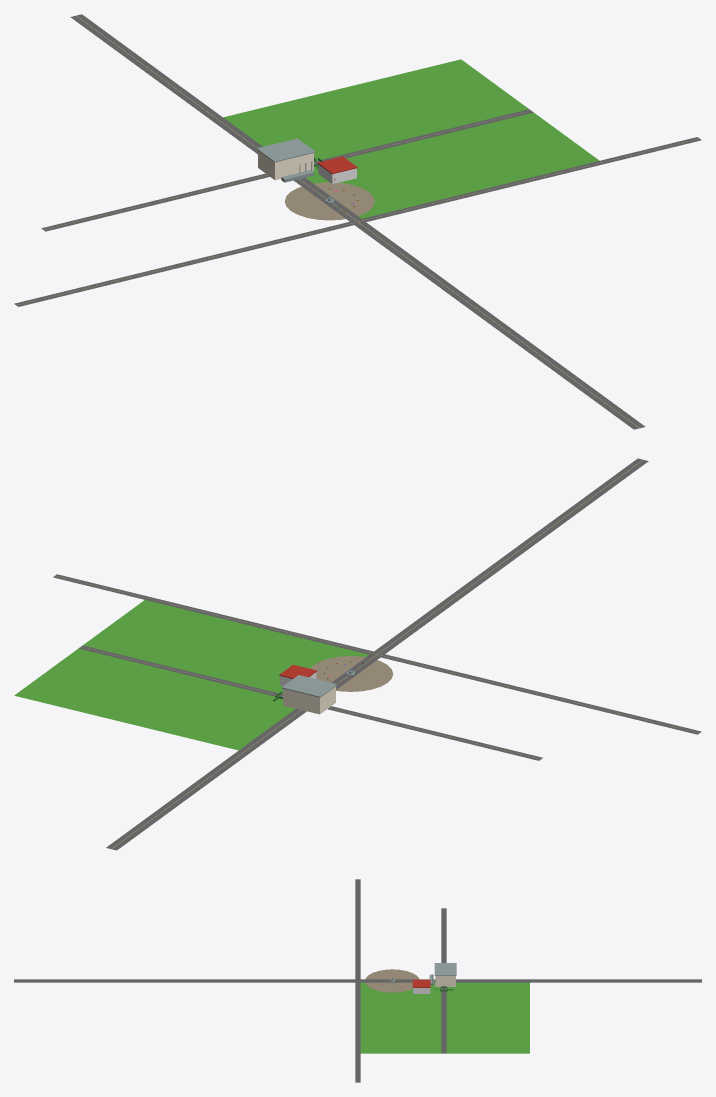
Rendered from sector_r1_c2.glb.
The picture shows the model from 3 angles, top to bottom: view 1: azimuth 30°, elevation 25°; view 2: azimuth 150°, elevation 25°; view 3: azimuth 270°, elevation 25°; orthographic projection. The views are drawn at different scales.
Visible parts, largest first — view 1: GROUND_r1_c2, ROAD_MainBlvd_0, ROAD_District_EW_2, GROUND_Plaza_Cobble, ROAD_District_EW_4, BUILDING_CityHall_Main, BUILDING_CityHall_Roof; view 2: GROUND_r1_c2, ROAD_MainBlvd_0, ROAD_District_EW_2, ROAD_District_EW_4, GROUND_Plaza_Cobble, BUILDING_CityHall_Main, BUILDING_CityHall_Roof; view 3: GROUND_r1_c2, ROAD_MainBlvd_0, ROAD_District_EW_2, GROUND_Plaza_Cobble, ROAD_District_EW_4.
Part boxes in pixels (x1=…): GROUND_r1_c2: x1=223, y1=59, x2=599, y2=218; ROAD_MainBlvd_0: x1=70, y1=14, x2=645, y2=429; ROAD_District_EW_2: x1=14, y1=137, x2=701, y2=306; GROUND_Plaza_Cobble: x1=284, y1=182, x2=374, y2=220; ROAD_District_EW_4: x1=41, y1=109, x2=533, y2=231; BUILDING_CityHall_Main: x1=258, y1=150, x2=313, y2=180; BUILDING_CityHall_Roof: x1=256, y1=138, x2=315, y2=162; GROUND_r1_c2: x1=14, y1=600, x2=369, y2=750; ROAD_MainBlvd_0: x1=106, y1=458, x2=648, y2=850; ROAD_District_EW_2: x1=53, y1=574, x2=701, y2=734; ROAD_District_EW_4: x1=78, y1=645, x2=542, y2=760; GROUND_Plaza_Cobble: x1=310, y1=656, x2=393, y2=691; BUILDING_CityHall_Main: x1=283, y1=686, x2=335, y2=714; BUILDING_CityHall_Roof: x1=281, y1=675, x2=337, y2=697; GROUND_r1_c2: x1=360, y1=982, x2=529, y2=1053; ROAD_MainBlvd_0: x1=14, y1=979, x2=701, y2=982; ROAD_District_EW_2: x1=355, y1=879, x2=360, y2=1082; GROUND_Plaza_Cobble: x1=365, y1=969, x2=418, y2=992; ROAD_District_EW_4: x1=441, y1=908, x2=446, y2=1053.
Bounding box in the file's own units: 700 × 19 × 1000.
